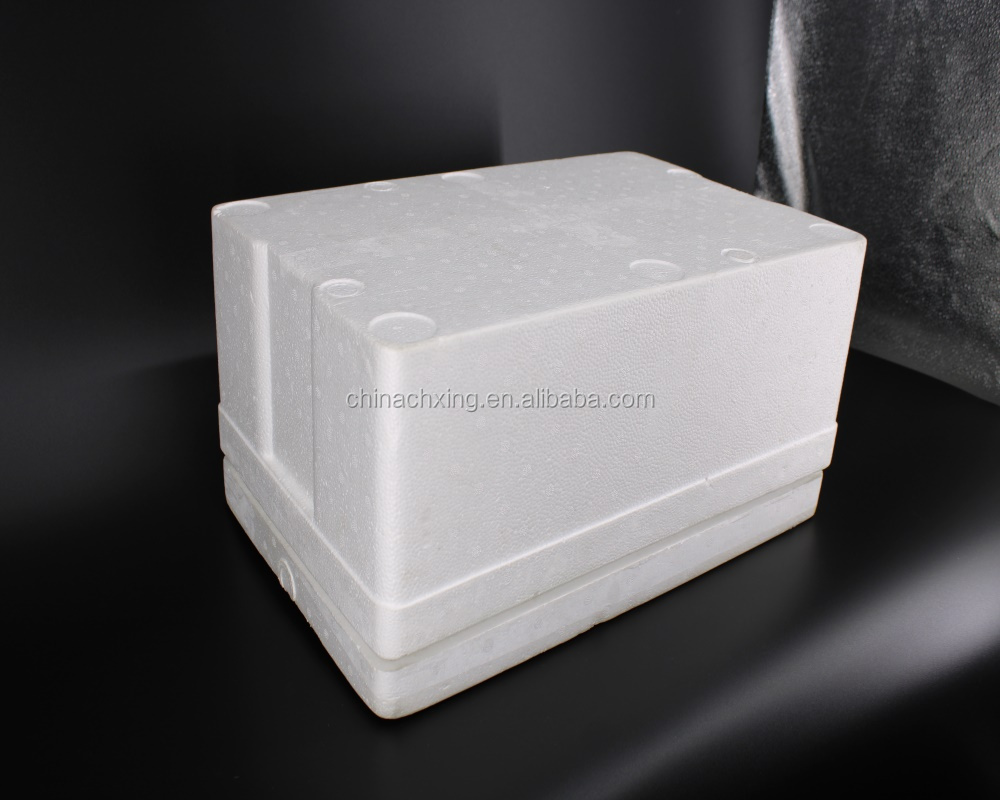泡沫箱: (212, 155, 864, 716)
